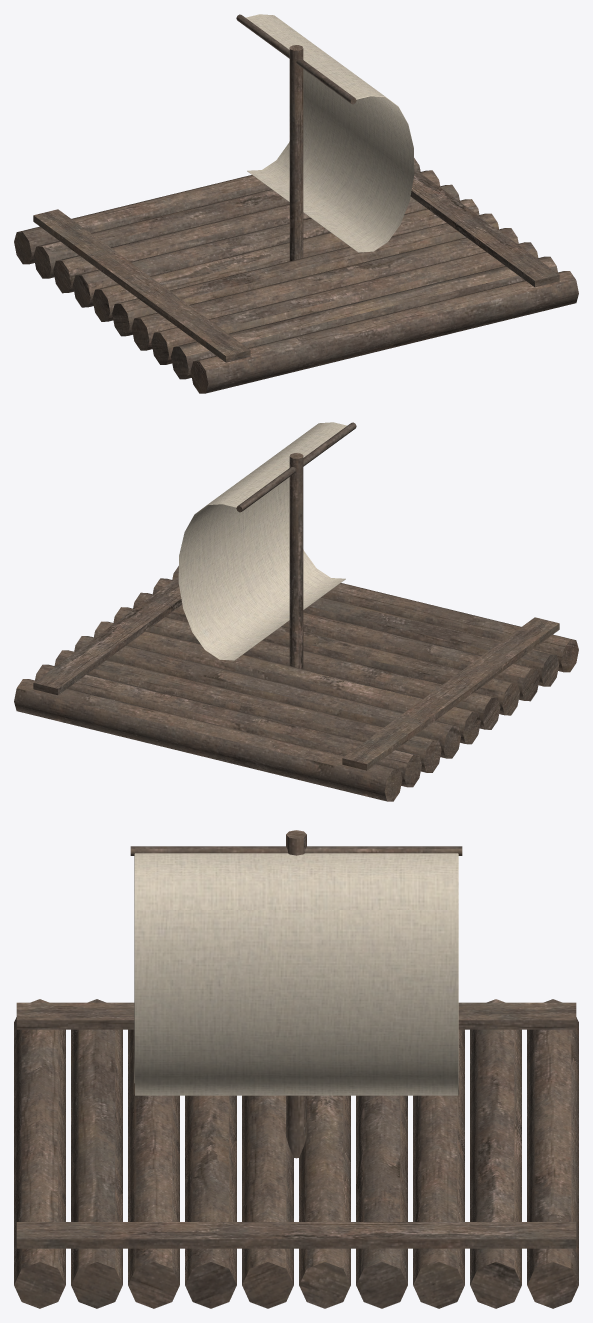
File: raft.glb
The picture shows the model from 3 angles, top to bottom: view 1: azimuth 30°, elevation 25°; view 2: azimuth 150°, elevation 25°; view 3: azimuth 270°, elevation 25°; orthographic projection. The views are drawn at different scales.
Parts seen in each view (by area): view 1: raft; view 2: raft; view 3: raft.
Boxes of the visible parts, box(x1,y1,x2,y2) form: raft: box(14, 14, 578, 393); raft: box(14, 422, 578, 801); raft: box(14, 830, 578, 1308).
Bounding box in the file's own units: 3 × 1.83 × 2.73.
Materials: 1 (1 with a texture image).
